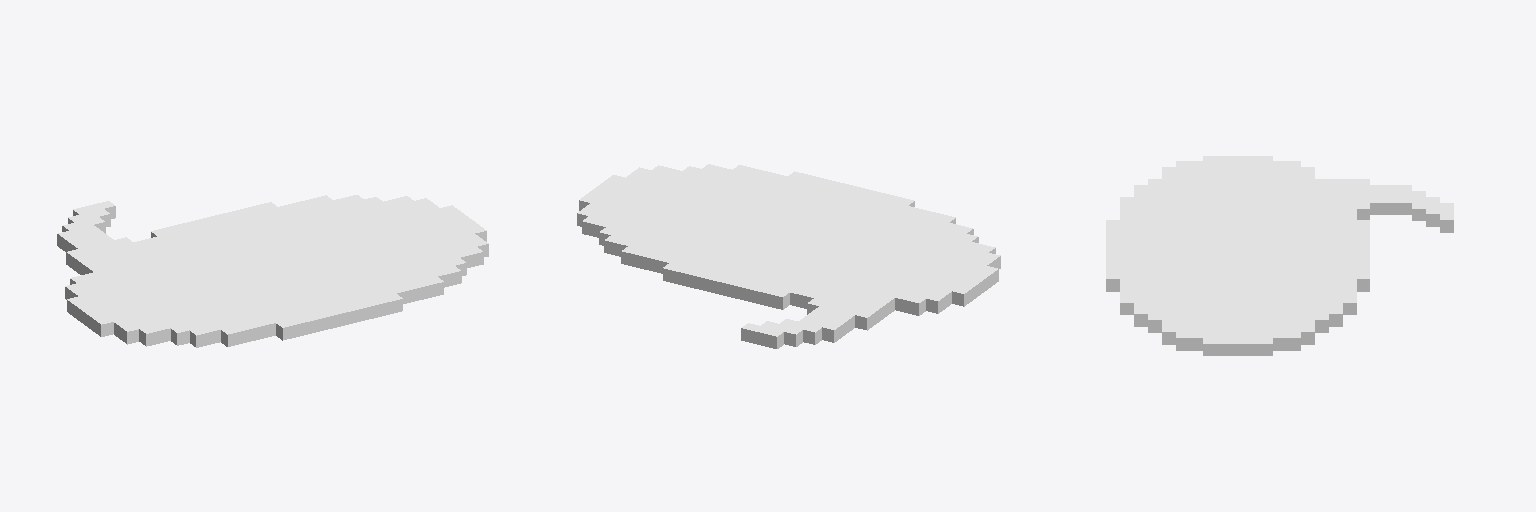
File: Robot_Alpha-2-3.obj
3 renders of one model, left to right at view 1: azimuth 30°, elevation 25°; view 2: azimuth 150°, elevation 25°; view 3: azimuth 270°, elevation 25°, orthographic.
Parts seen in each view (by area): view 1: object 1; view 2: object 1; view 3: object 1.
Boxes of the visible parts, x1,y1,x2,y2 form: object 1: [57, 195, 488, 347]; object 1: [577, 164, 1000, 348]; object 1: [1106, 156, 1453, 355].
Bounding box in the file's own units: 3.2 × 0.1 × 2.5.